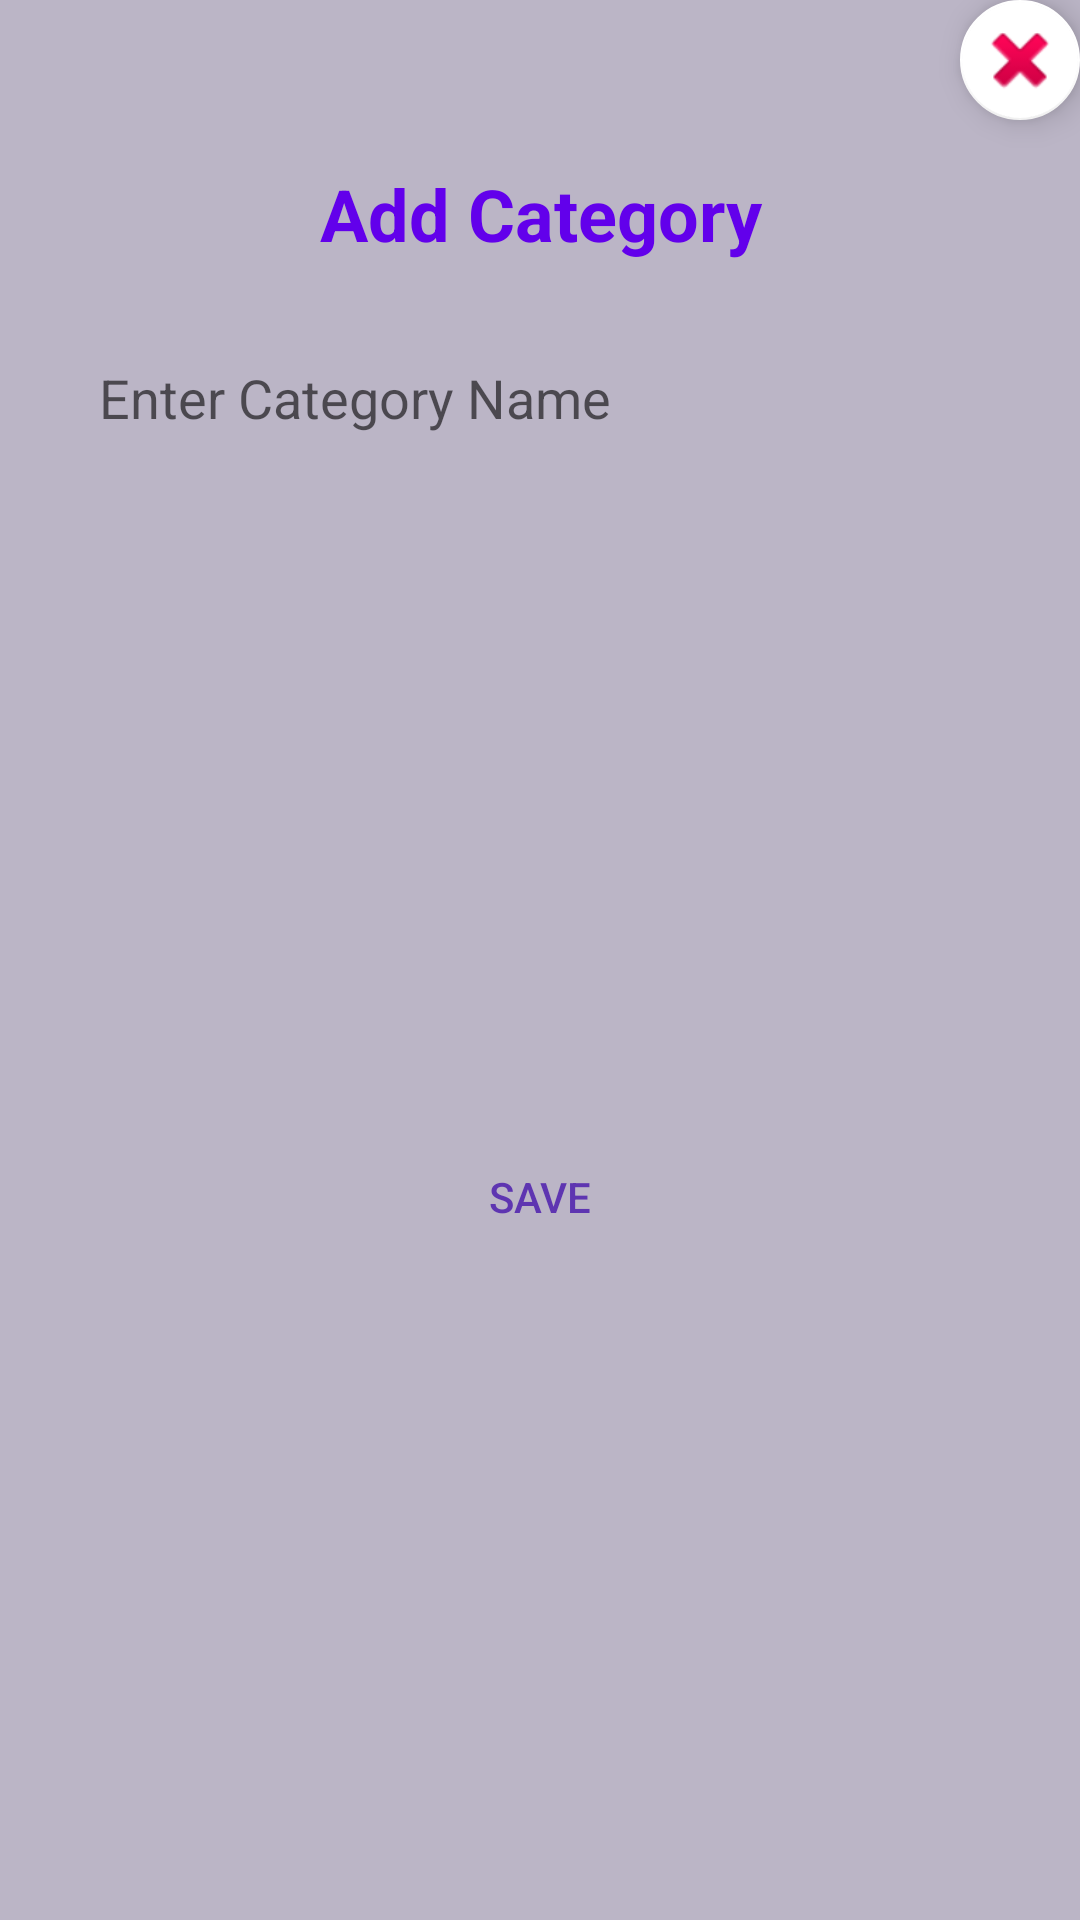

Where to tap for icons on this 1080px×1920px app screen, as point (x, y):
close: point (1020, 60)
